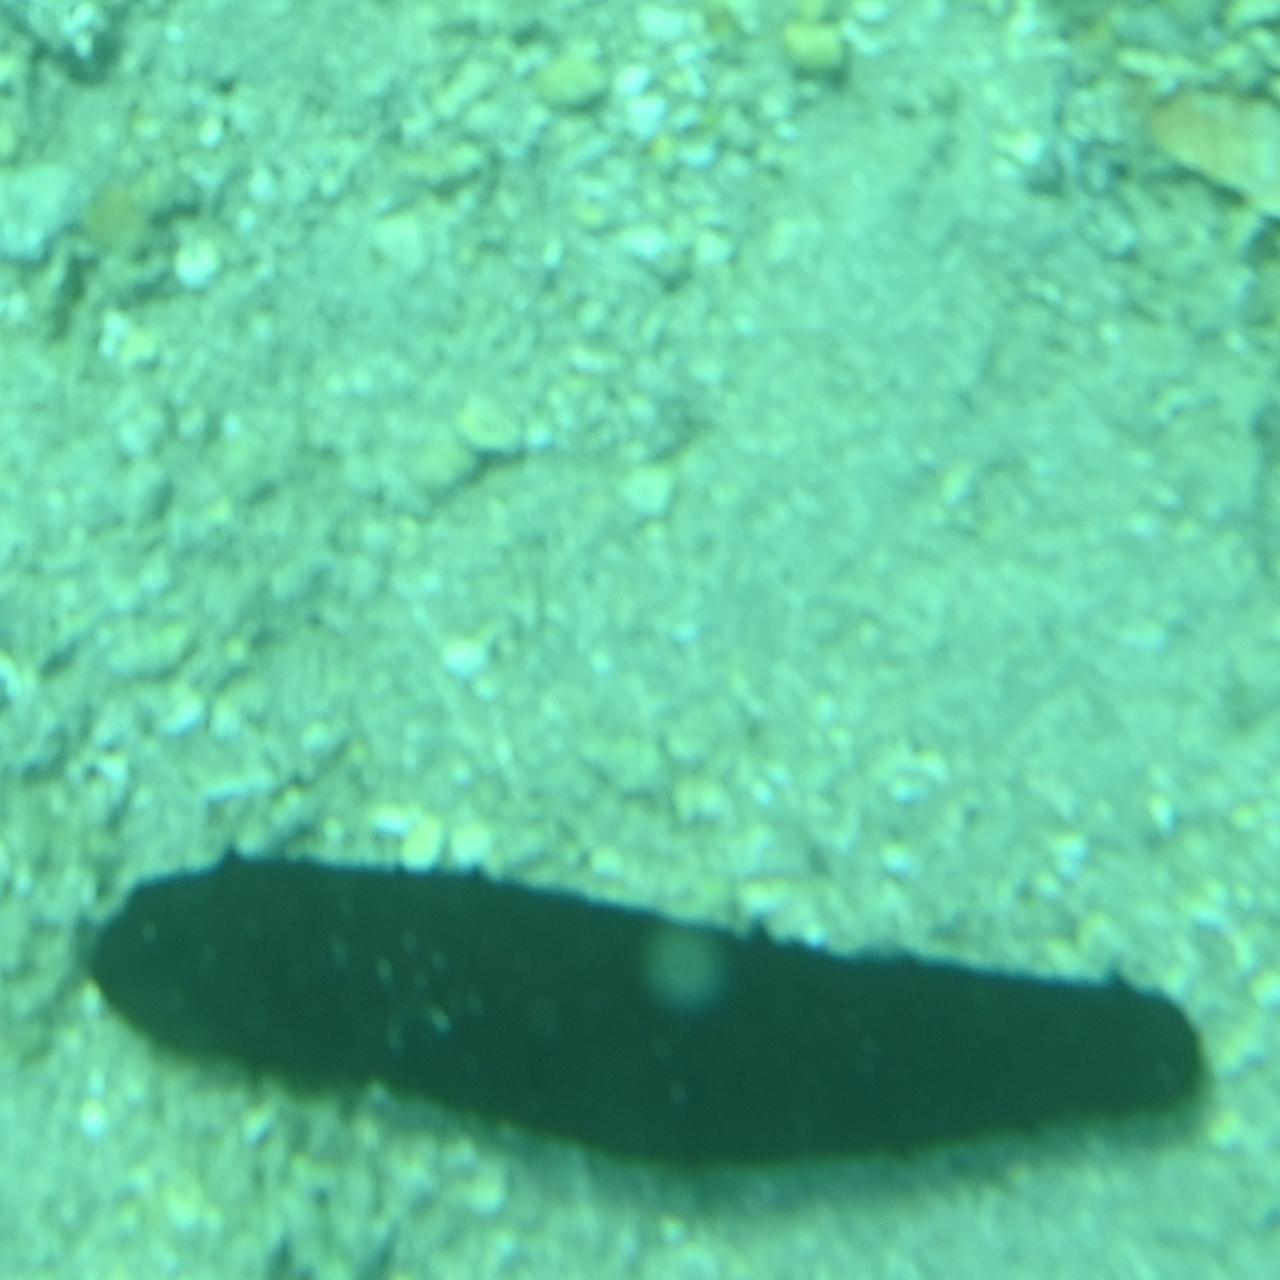Holothuria tubulosa: (72, 825, 1208, 1199)
